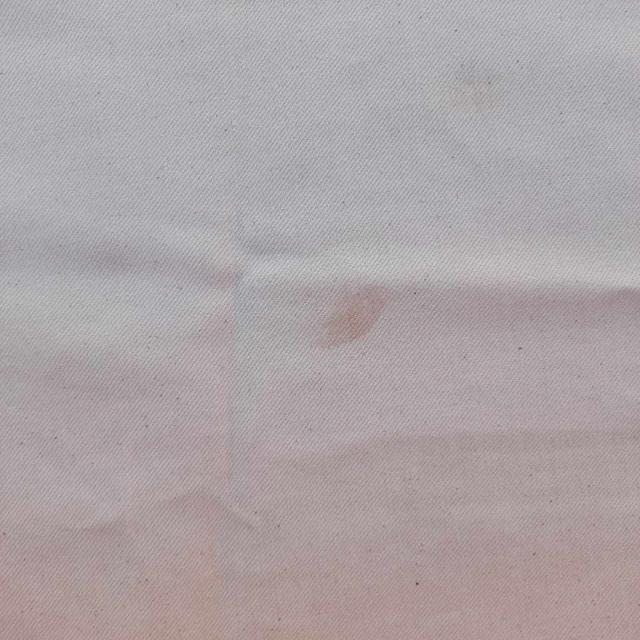taaaches: (302, 283, 411, 357)
